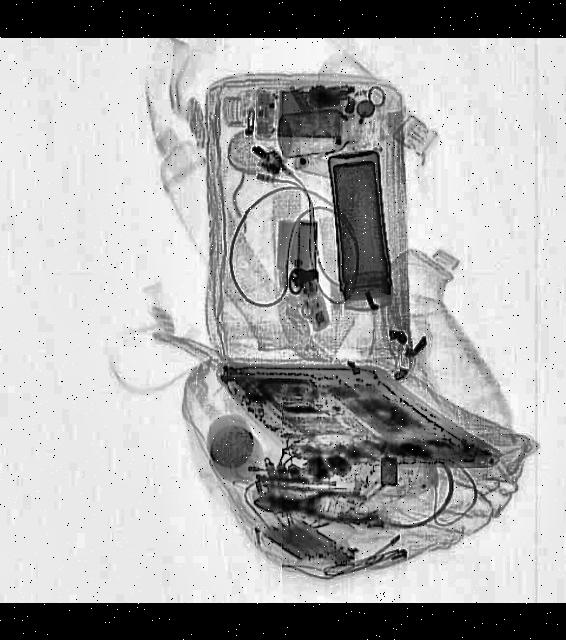Pliers: (255, 482, 379, 526)
